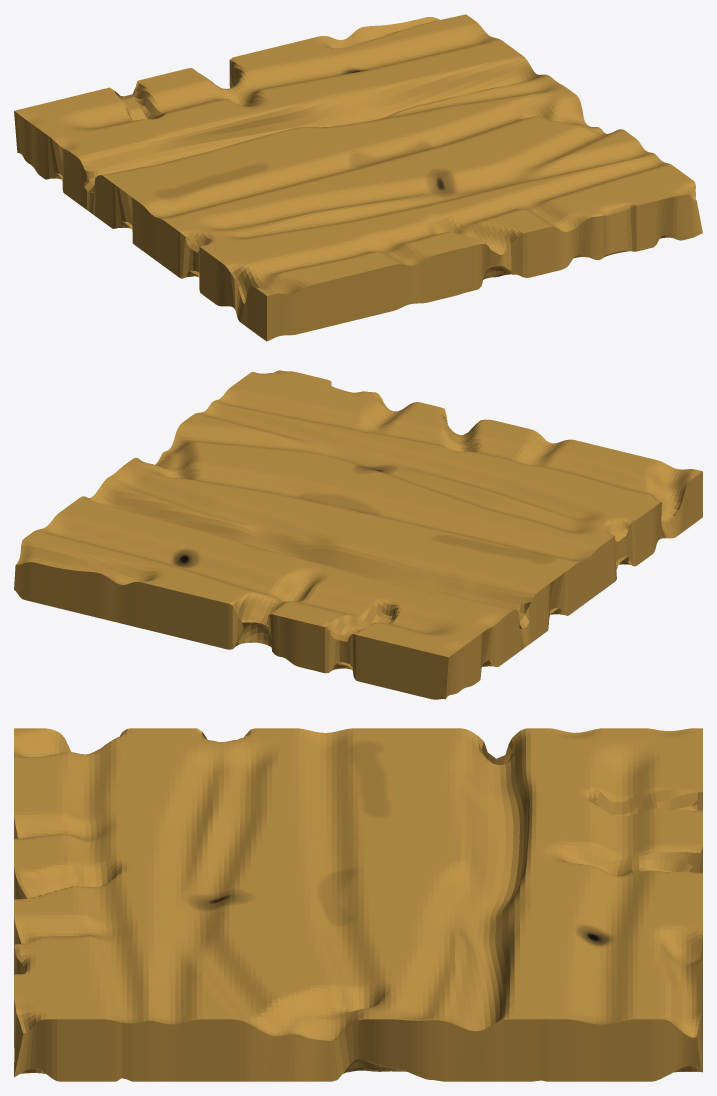
Rendered from driftwoodpiece2.fbx.
3 views of the same model, one above another, from view 1: azimuth 30°, elevation 25°; view 2: azimuth 150°, elevation 25°; view 3: azimuth 270°, elevation 25° (orthographic). The views are drawn at different scales.
Parts seen in each view (by area): view 1: Driftwood2; view 2: Driftwood2; view 3: Driftwood2.
Boxes of the visible parts, x1,y1,x2,y2 form: Driftwood2: [14, 14, 702, 341]; Driftwood2: [14, 370, 702, 699]; Driftwood2: [14, 728, 702, 1081].
Bounding box in the file's own units: 201 × 20.21 × 200.
1 material, 1 textured.
